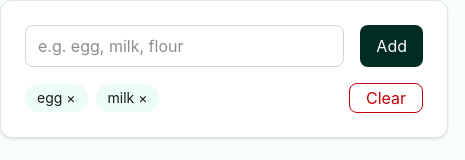
Test: PantryForm › removes one ingredient and clears the pantry
Click the button "egg ×": (56, 98) [25, 84, 88, 112]
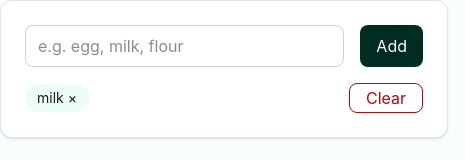
Expected: the button "egg ×" is gone
Click the button "Clear": (386, 98) [349, 83, 423, 113]
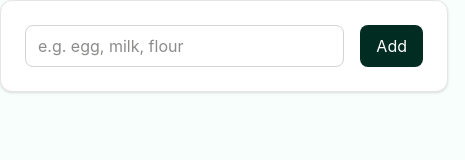
Expected: the button "milk ×" is gone
Expected: the button "Clear" is gone
